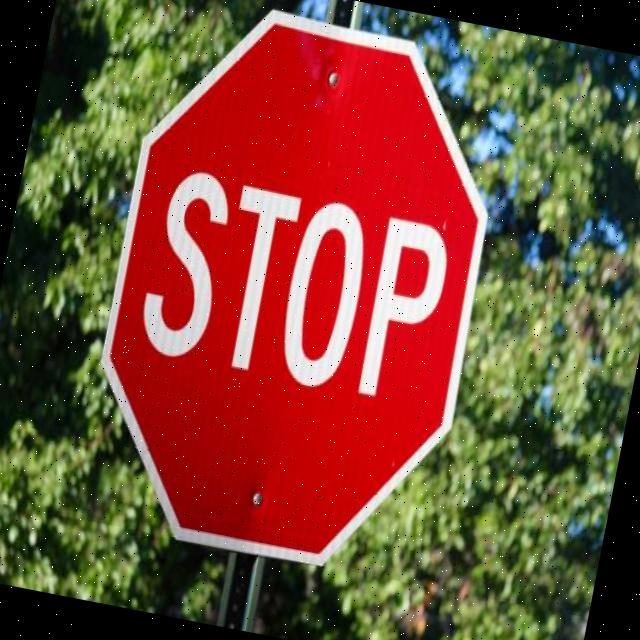stop: (55, 0, 534, 599)
